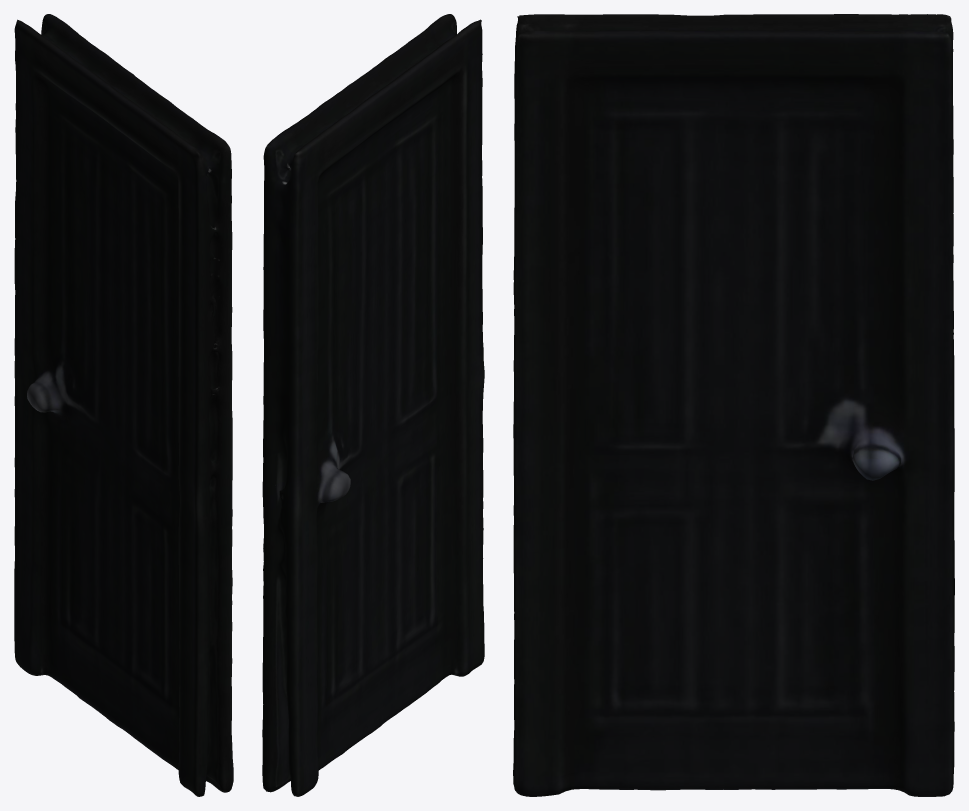
The model's file is blackDoor.glb.
3 views of the same model, side by side, from view 1: azimuth 30°, elevation 25°; view 2: azimuth 150°, elevation 25°; view 3: azimuth 270°, elevation 25° (orthographic). The views are drawn at different scales.
Visible parts, largest first — view 1: mesh; view 2: mesh; view 3: mesh.
Boxes of the visible parts, bbox=[...] form: mesh: bbox=[14, 14, 233, 796]; mesh: bbox=[262, 14, 484, 796]; mesh: bbox=[513, 14, 954, 796].
Bounding box in the file's own units: 0.1221 × 0.9986 × 0.5222.
Materials: 1 (1 with a texture image).
